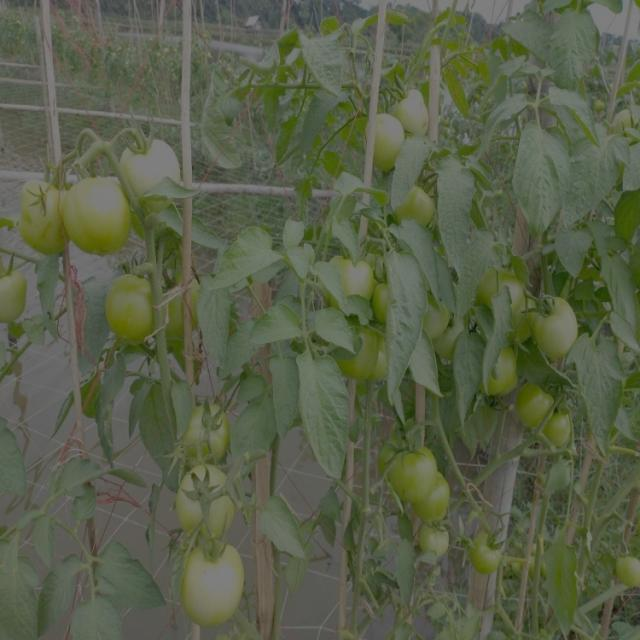tomato: (114, 122, 182, 216), (181, 545, 247, 628), (68, 175, 133, 249), (176, 465, 240, 540), (105, 261, 159, 344), (382, 431, 438, 503), (16, 172, 65, 250), (162, 273, 204, 347), (328, 247, 375, 310), (188, 397, 234, 459), (537, 292, 579, 359), (484, 261, 530, 320), (364, 115, 409, 175), (394, 83, 438, 140), (394, 180, 440, 229), (342, 324, 382, 378), (509, 380, 557, 425), (1, 263, 32, 329), (413, 521, 458, 566), (469, 528, 509, 576), (489, 341, 519, 397), (438, 315, 468, 364), (372, 274, 398, 326), (424, 485, 456, 523), (615, 548, 640, 596), (428, 294, 450, 340), (551, 410, 575, 448)
